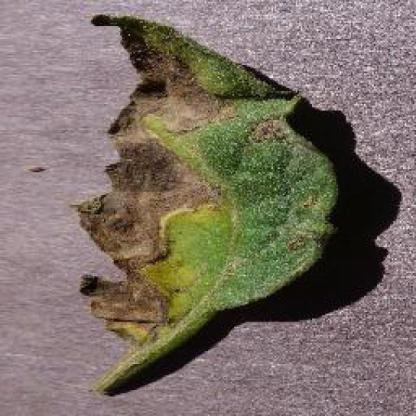Tomato_Blight: (82, 13, 335, 398)
